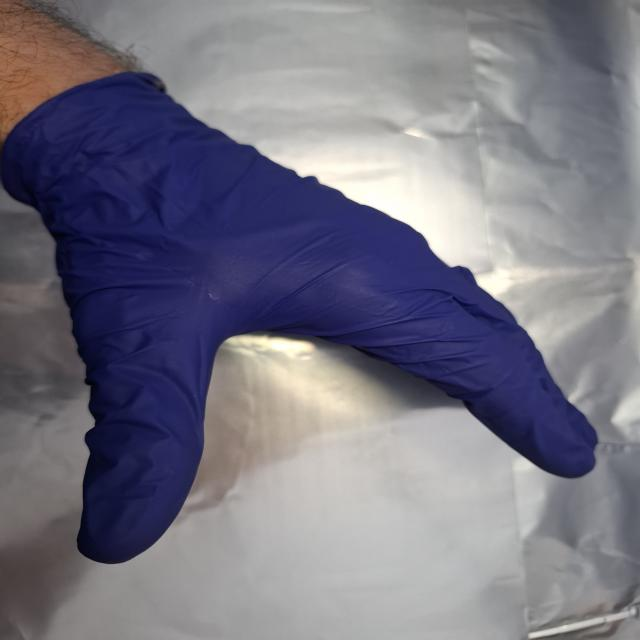glove_on: (16, 68, 604, 570)
